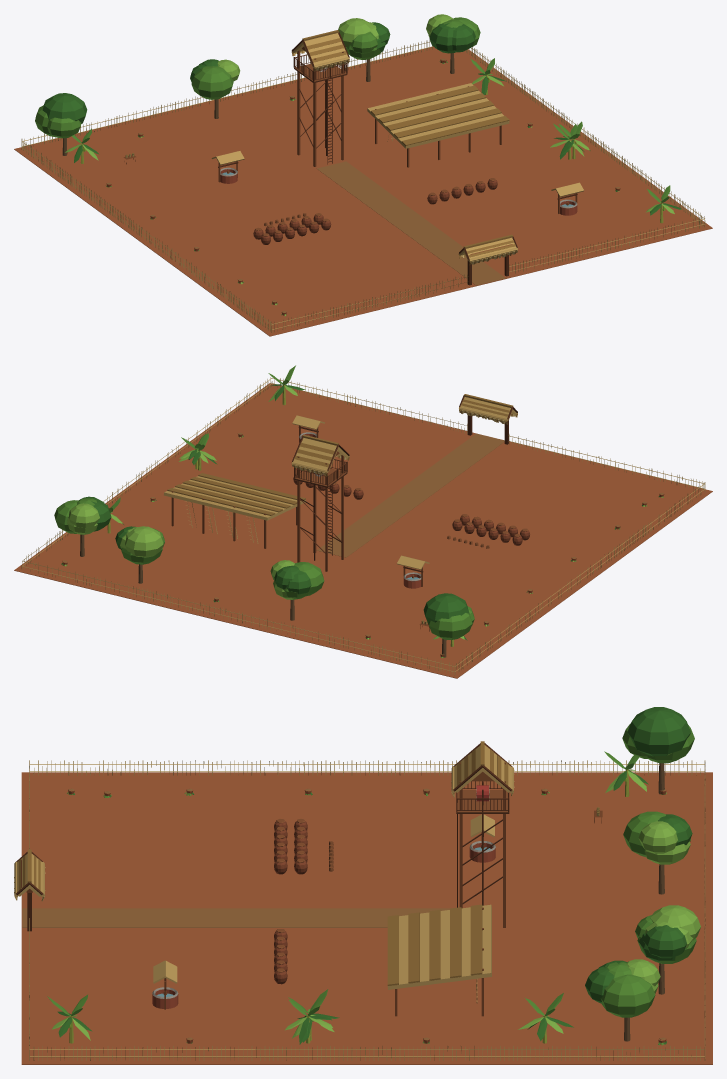
The model's file is fire.glb.
The picture shows the model from 3 angles, top to bottom: view 1: azimuth 30°, elevation 25°; view 2: azimuth 150°, elevation 25°; view 3: azimuth 270°, elevation 25°; orthographic projection. The views are drawn at different scales.
Parts seen in each view (by area): view 1: body; view 2: body; view 3: body.
Boxes of the visible parts, <box> form: body: <box>14,14,712,336</box>; body: <box>14,365,712,678</box>; body: <box>14,707,712,1064</box>.
Bounding box in the file's own units: 47.9 × 13.03 × 48.44.
